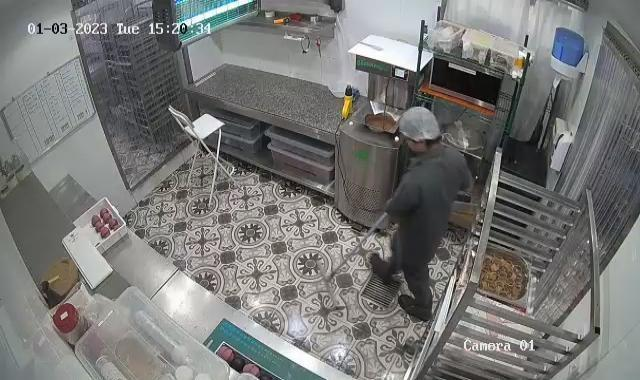gloves: (400, 103, 446, 136)
no_hairnet: (399, 132, 441, 164)
